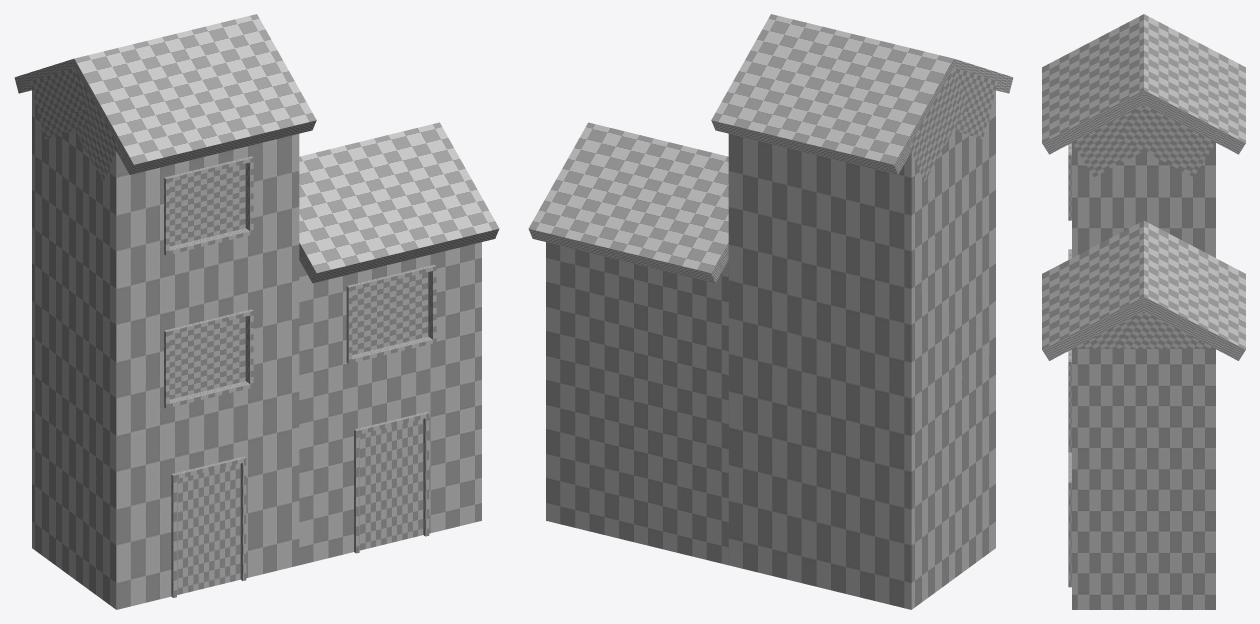
The model's file is Solbourg_Mitoyennes.fbx.
The picture shows the model from 3 angles, left to right: view 1: azimuth 30°, elevation 25°; view 2: azimuth 150°, elevation 25°; view 3: azimuth 270°, elevation 25°; orthographic projection. The views are drawn at different scales.
Visible parts, largest first — view 1: Cube; view 2: Cube; view 3: Cube.
Part boxes in pixels (x1,y1,x2,y2): Cube: (14,14,499,609); Cube: (528,14,1013,609); Cube: (1042,14,1245,609).
Size of the model in its own units: 1000 by 1361 by 566.
Materials: 1 (1 with a texture image).
